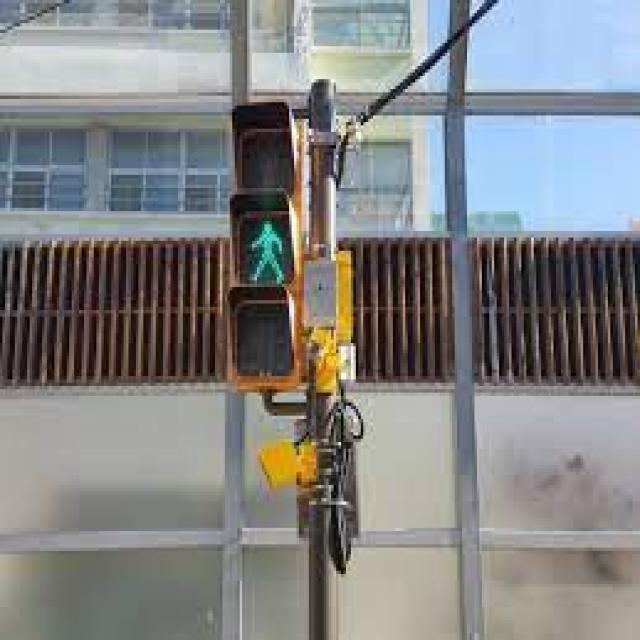green_light: (241, 220, 290, 284)
